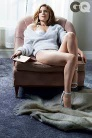female: (36, 3, 56, 24)
